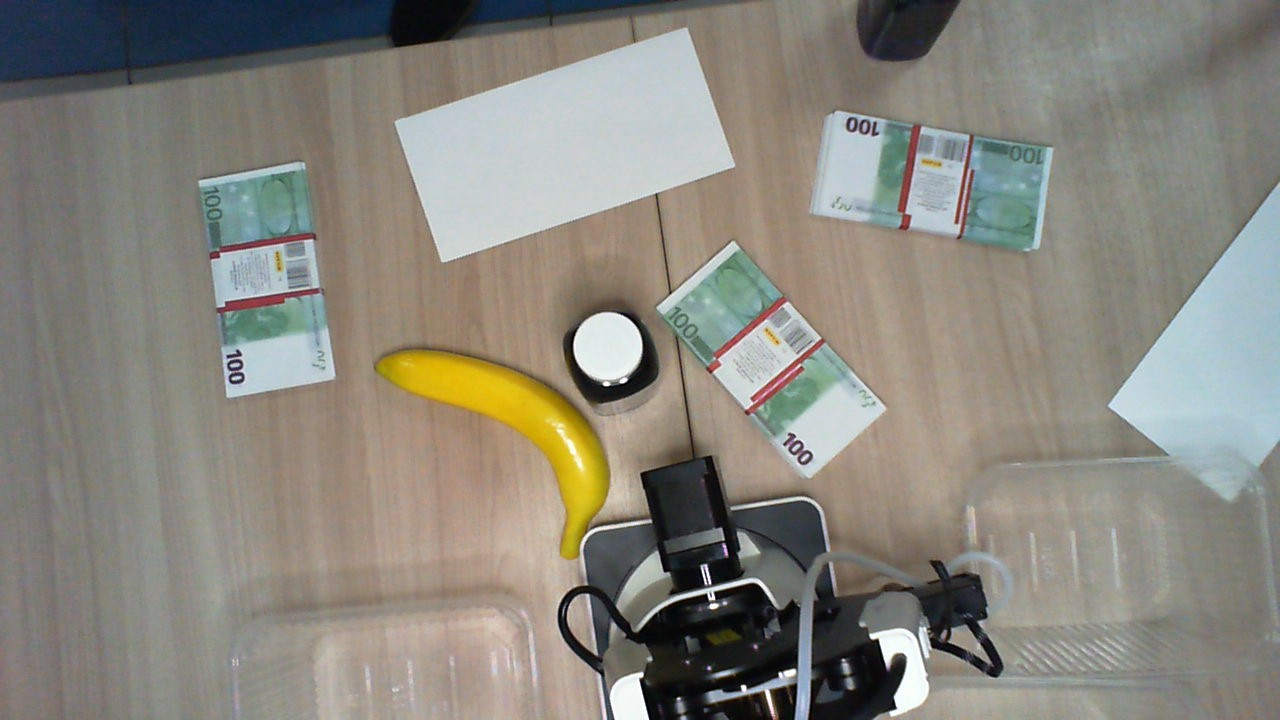banana: (372, 345, 613, 561)
bottle: (565, 310, 654, 396)
convert: (392, 25, 738, 266), (1104, 179, 1278, 501)
money: (658, 240, 888, 480), (810, 109, 1053, 253), (198, 159, 338, 399)
